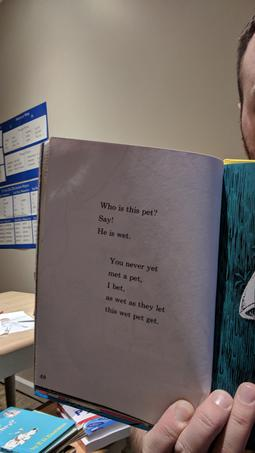text block: (99, 252, 172, 326), (88, 195, 166, 241)
